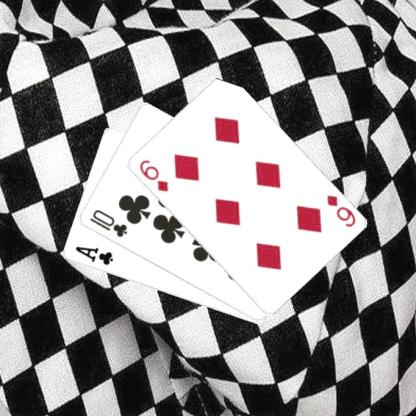10C: (86, 207, 129, 239)
6D: (136, 157, 170, 193), (323, 192, 357, 228)
AC: (72, 244, 114, 268)
